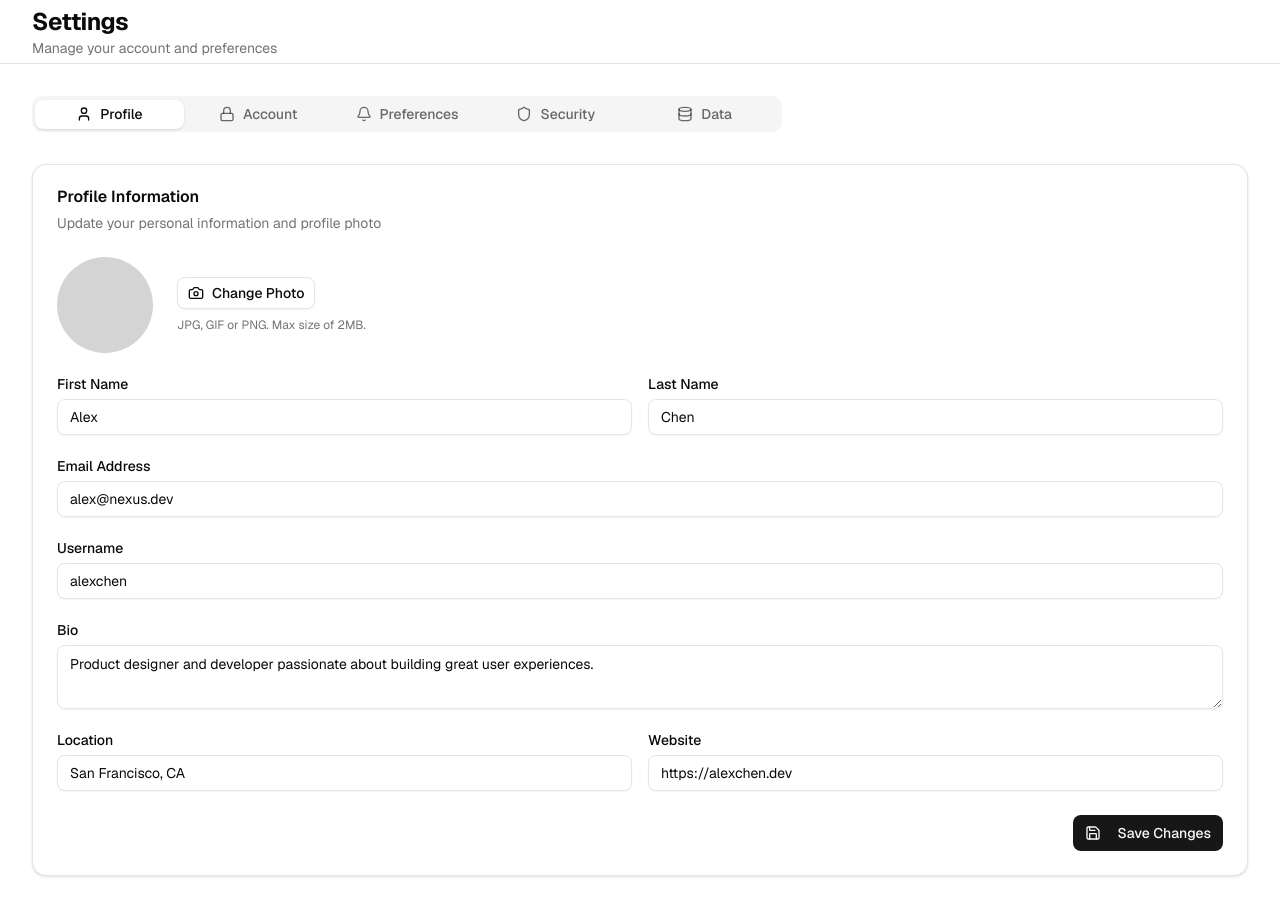
Test: SettingsPage › switches to preferences tab
Click the tab "Preferences": (407, 114) [333,100,481,128]
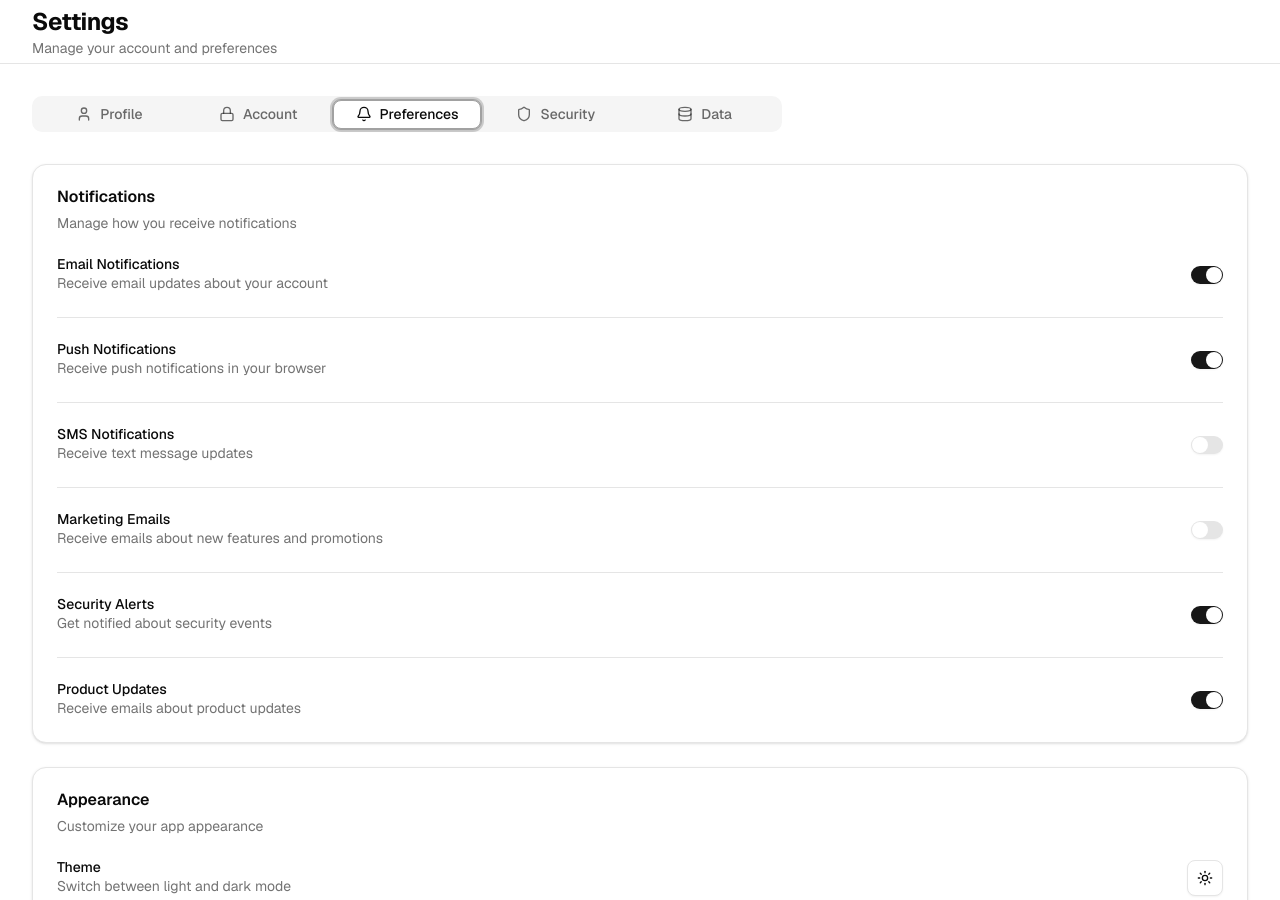
Expected: the text "Notifications" is shown, [57,186,155,207]
Expected: the text "Manage how you receive notifications" is shown, [57,214,297,232]
